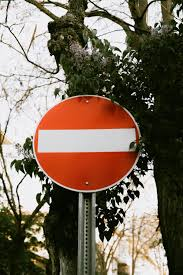noentry: (17, 75, 151, 207)
